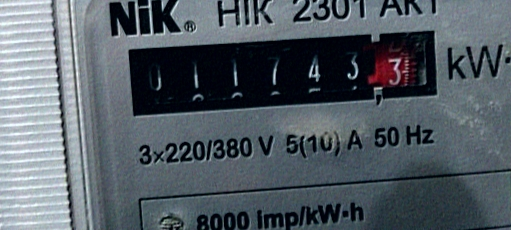0: (144, 58, 166, 95)
1: (227, 53, 245, 88), (190, 56, 203, 90)
3: (341, 47, 363, 83), (386, 55, 406, 90)
4: (304, 50, 324, 85)
7: (265, 52, 286, 87)
screen: (114, 13, 454, 132)
